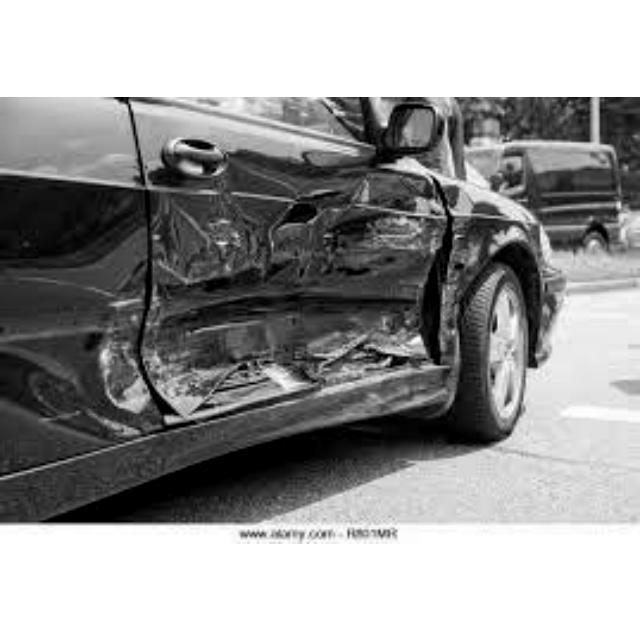Runningboard-Damage: (290, 370, 466, 424)
doorouter-dent: (146, 144, 452, 374), (0, 109, 142, 434)
